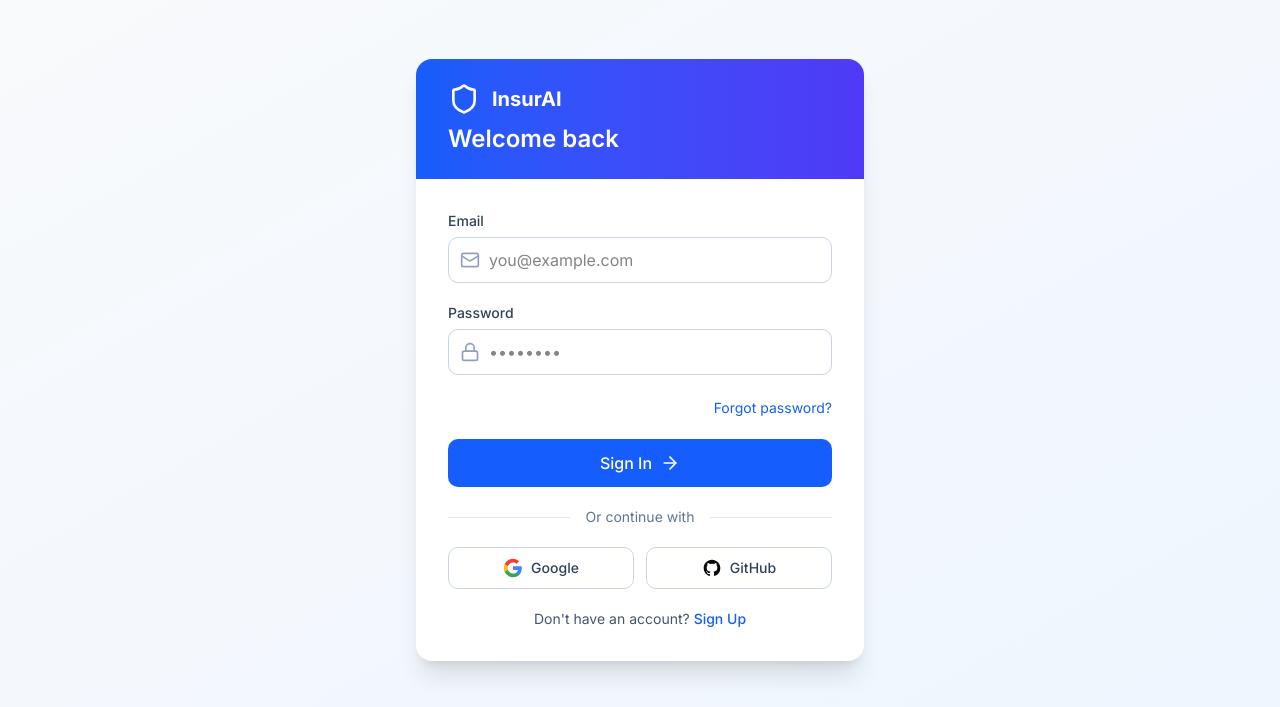
AuthPage › Sign Up Mode › should switch to sign up mode when clicking sign up link
The width and height of the screenshot is (1280, 707).
What coordinates should you click on to do the following:
click the button "Sign Up"
I would click on:
 (720, 619)
Its box is [694,609,746,629].
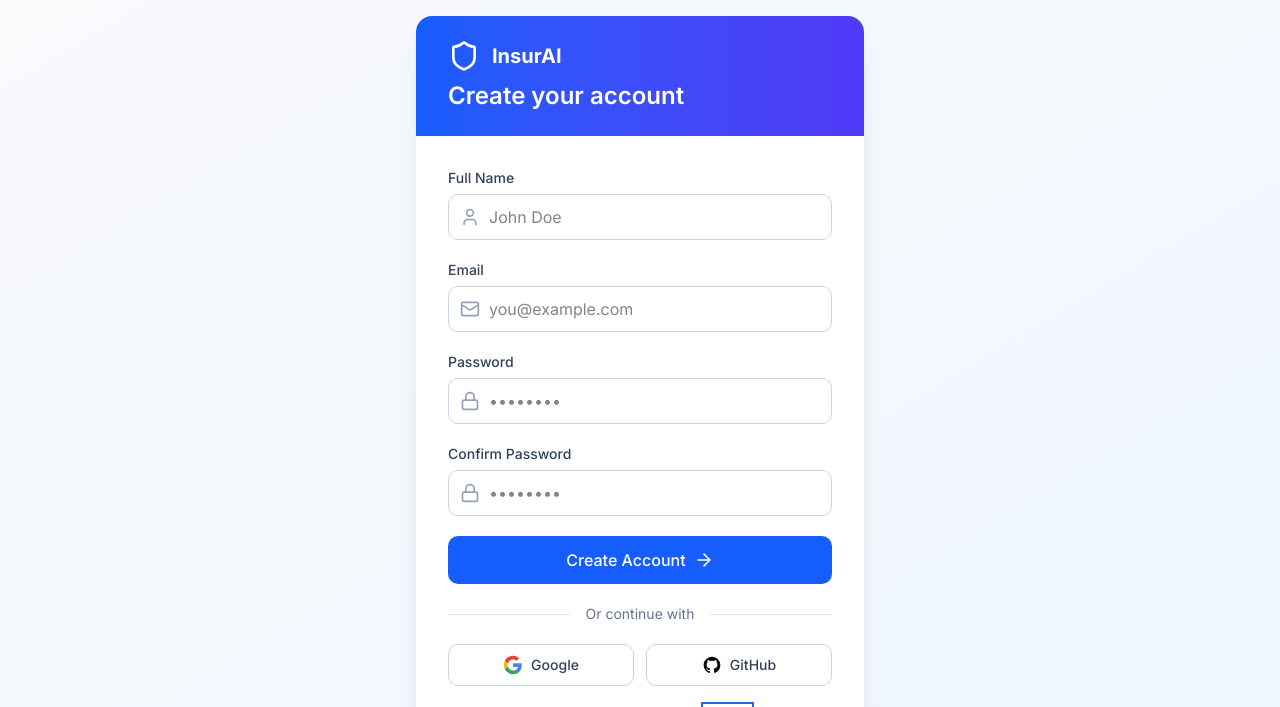
Expected: the heading "Create your account" is shown, [448,81,684,110]
Expected: the field with placeholder "John Doe" is shown, [448,194,832,240]
